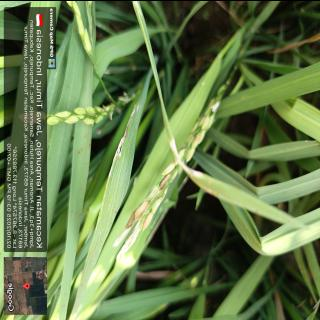Busuk-Bulir: (133, 200, 150, 219), (159, 172, 171, 189), (126, 219, 131, 226)
